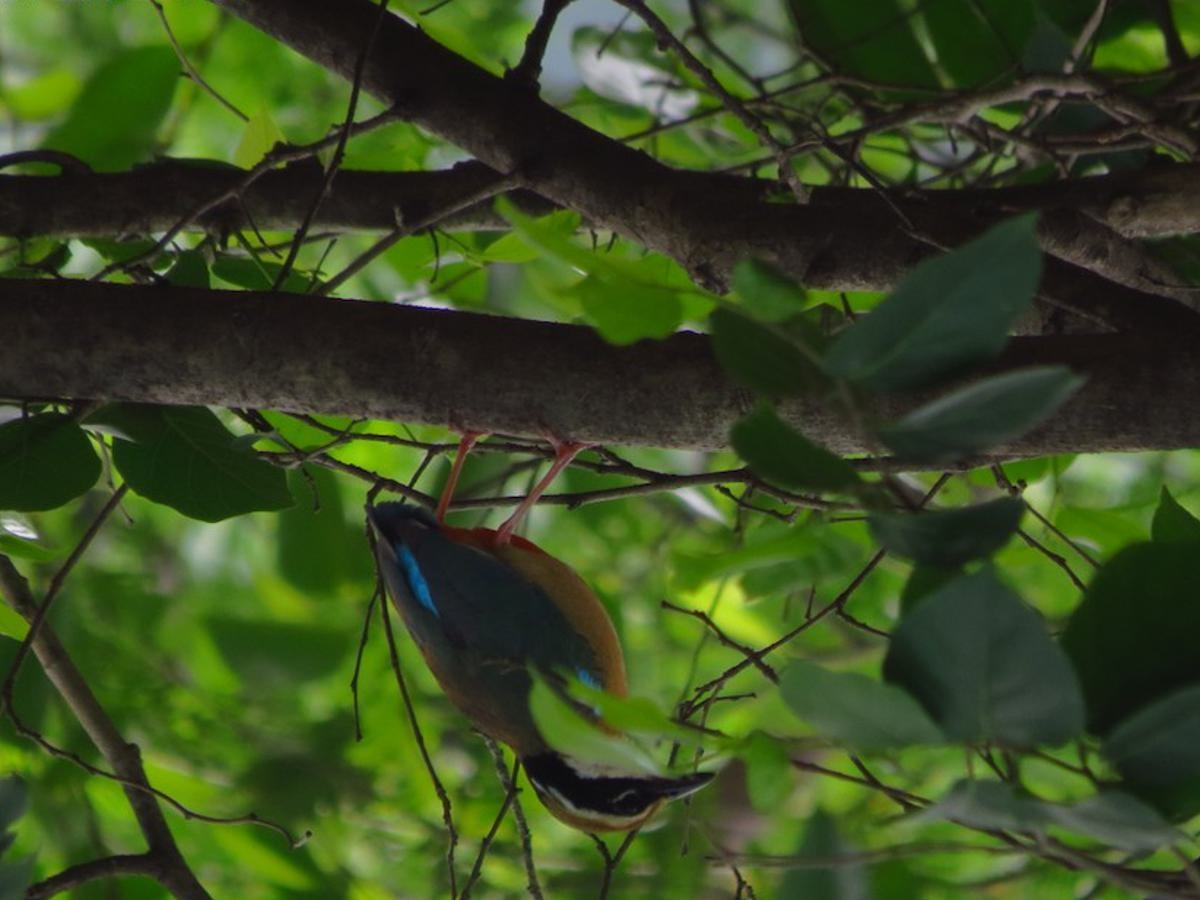pitta: (399, 356, 729, 831)
